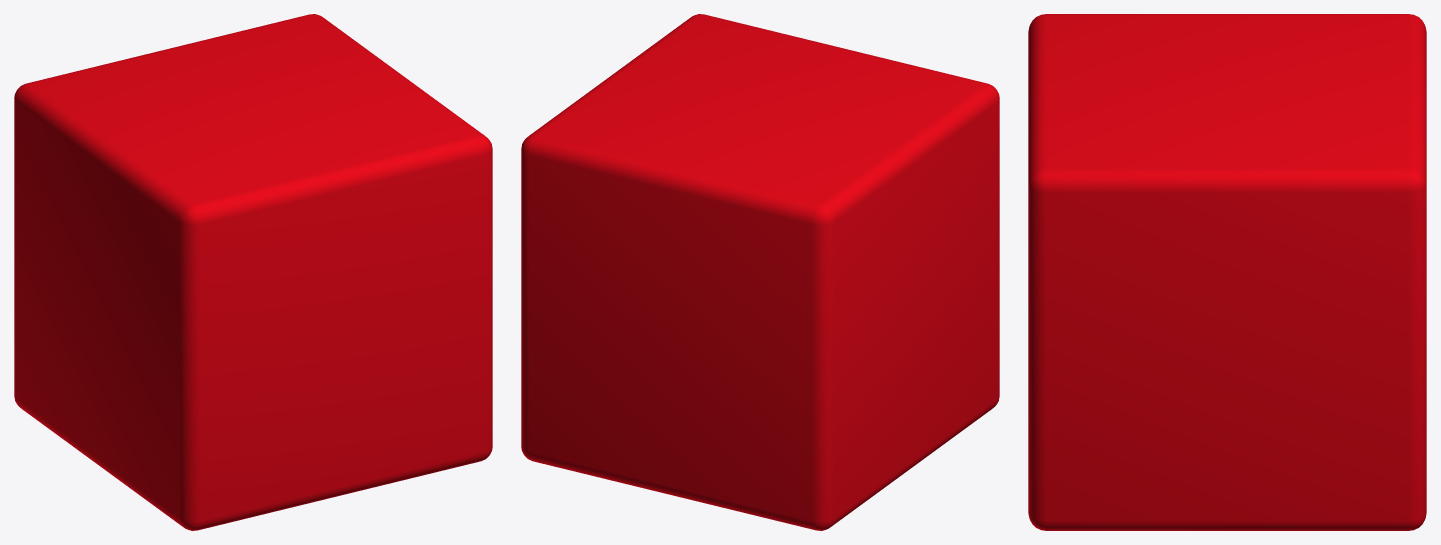
The picture shows the model from 3 angles, left to right: view 1: azimuth 30°, elevation 25°; view 2: azimuth 150°, elevation 25°; view 3: azimuth 270°, elevation 25°; orthographic projection. The views are drawn at different scales.
Parts seen in each view (by area): view 1: Cube; view 2: Cube; view 3: Cube.
Part boxes in pixels (box(x1,y1,x2,y2)): Cube: box(14, 14, 492, 530); Cube: box(521, 14, 999, 530); Cube: box(1028, 14, 1426, 530).
Bounding box in the file's own units: 2 × 2 × 2.
